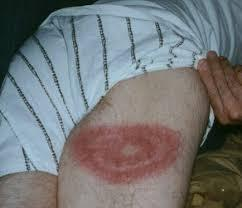Tick: (70, 124, 179, 182)
